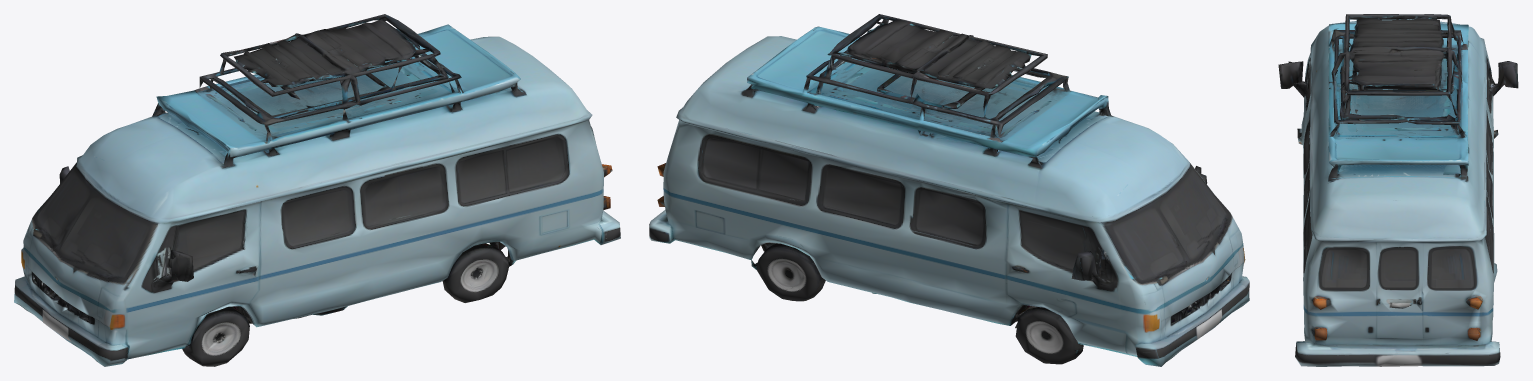
Rendered from IndianVanBlue.fbx.
The picture shows the model from 3 angles, left to right: view 1: azimuth 30°, elevation 25°; view 2: azimuth 150°, elevation 25°; view 3: azimuth 270°, elevation 25°; orthographic projection. The views are drawn at different scales.
Visible parts, largest first — view 1: IndianVanBlue; view 2: IndianVanBlue; view 3: IndianVanBlue.
Boxes of the visible parts, x1,y1,x2,y2 form: IndianVanBlue: (14, 14, 620, 366); IndianVanBlue: (649, 14, 1249, 366); IndianVanBlue: (1278, 14, 1518, 366).
Bounding box in the file's own units: 480 × 220 × 200.
Materials: 1 (1 with a texture image).
